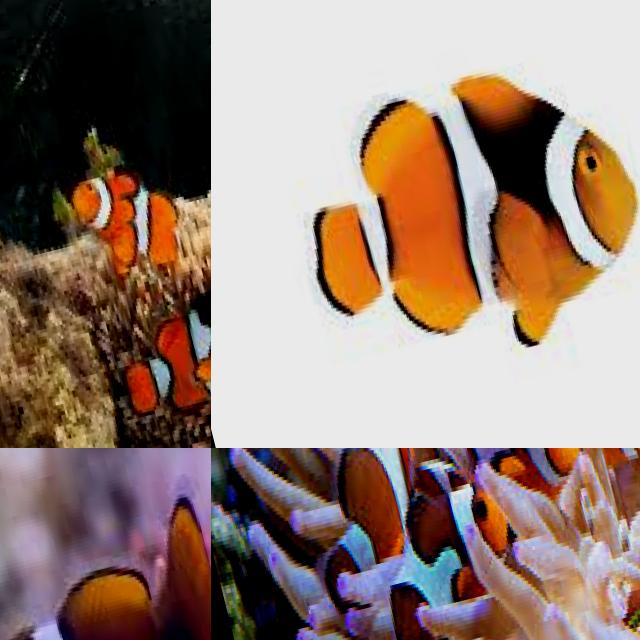Amphiprion-percula: (211, 0, 640, 442), (227, 0, 640, 426), (355, 453, 554, 640), (0, 483, 211, 640), (437, 448, 640, 569), (89, 263, 211, 443), (58, 134, 193, 296), (257, 448, 453, 555), (313, 448, 467, 553), (388, 448, 533, 544), (509, 448, 640, 544)
